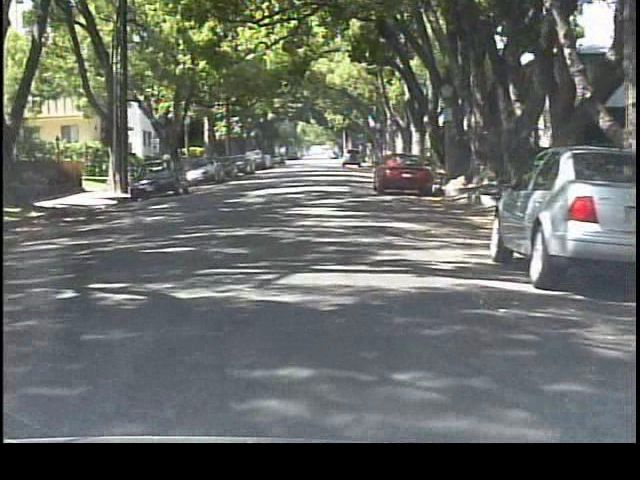person: (159, 150, 179, 187)
